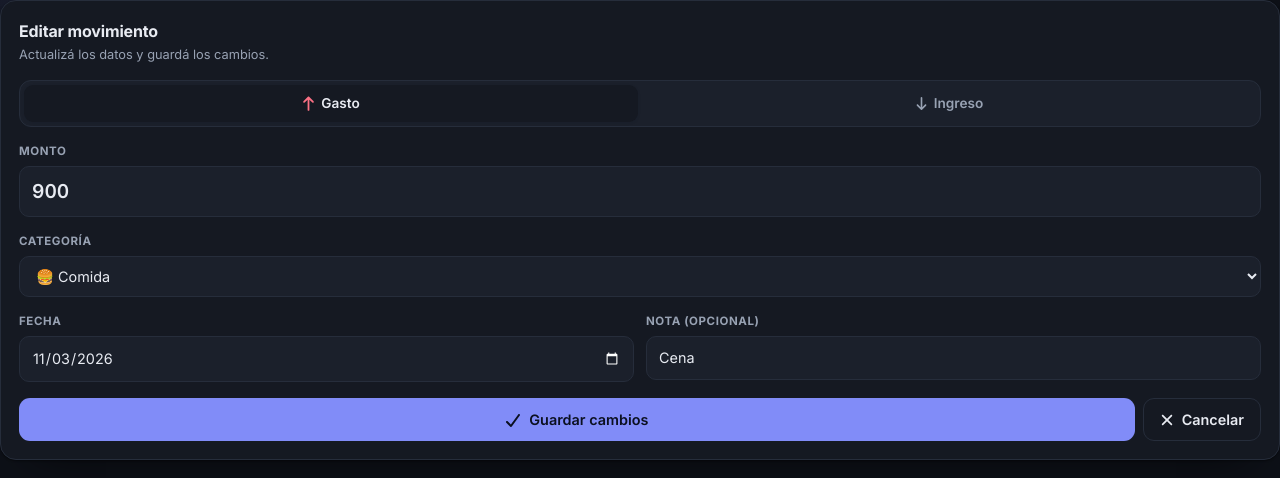
Scenario: TransactionForm › cancela la edición y limpia los campos
Click the button "Cancelar".
click(1202, 420)  # box [1143,398,1261,441]
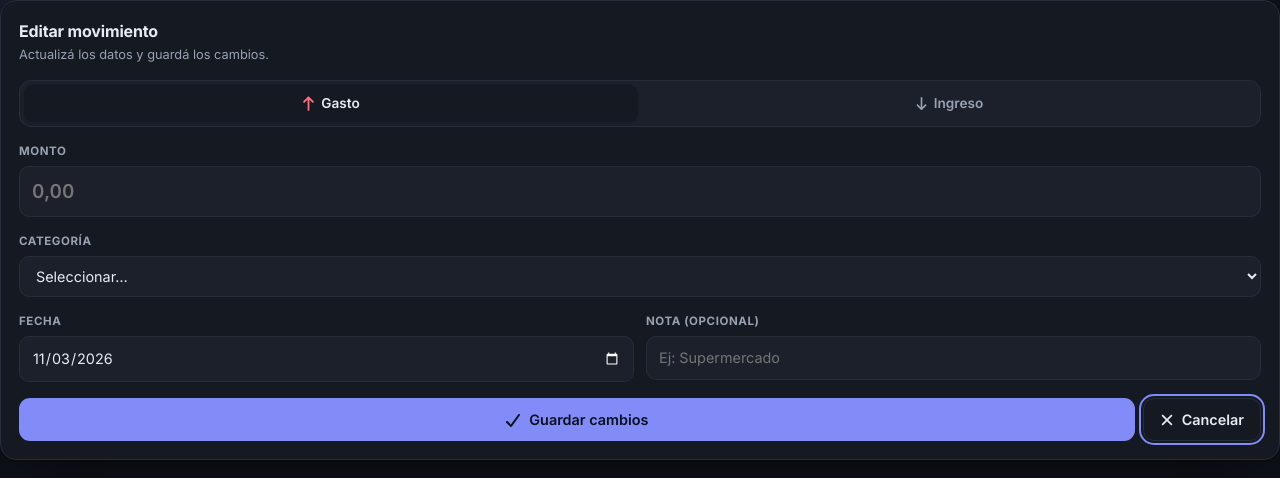
Check: the field labelled "Monto" is empty, box [19,166,1261,217]
